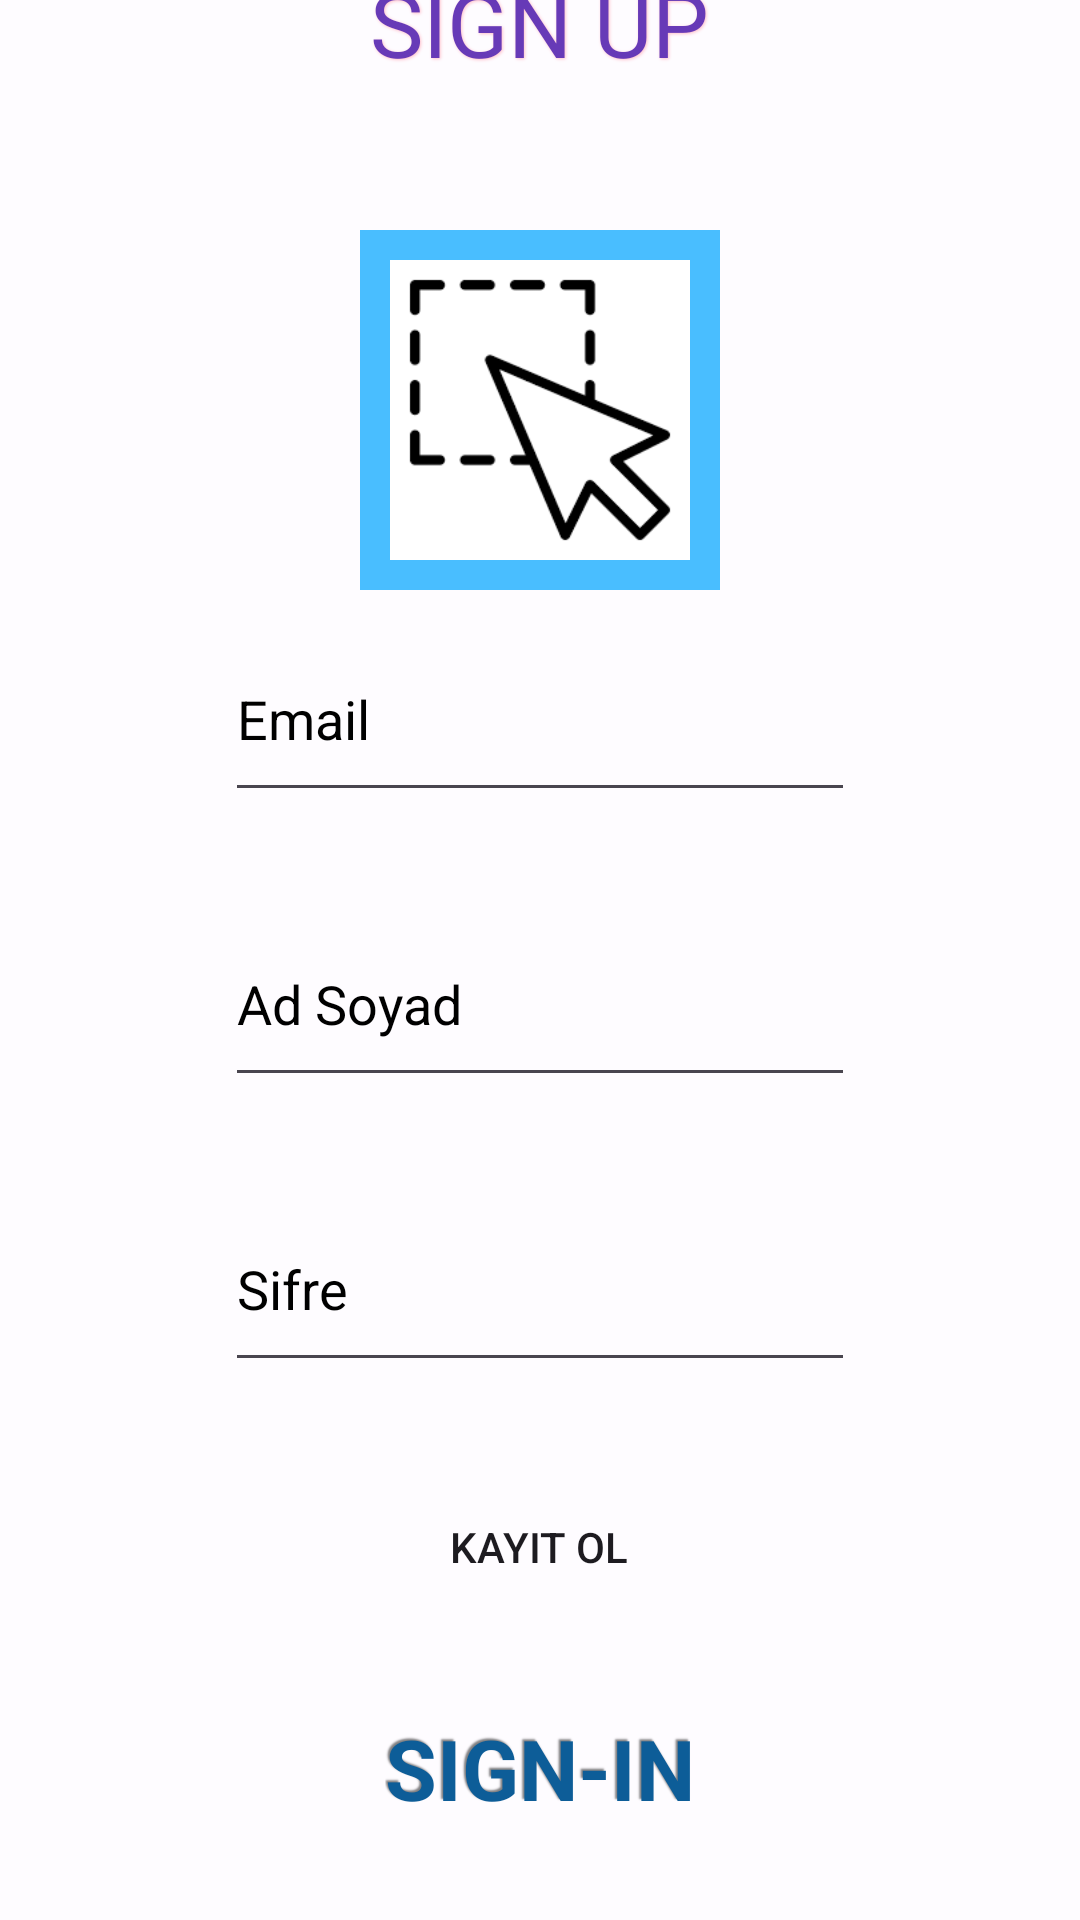

Point at icon controls on the screen. Image size 1080x1920, points as (x,y).
select: (540,410)
